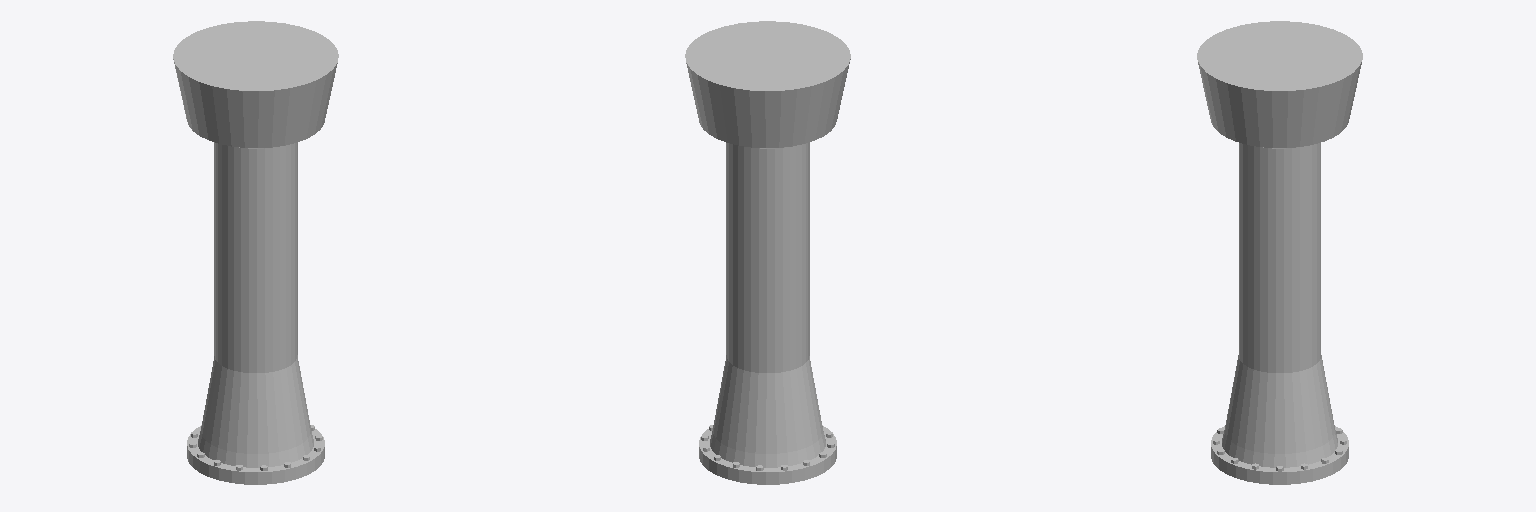
File: pipeworks_fountainhead.obj
3 views of the same model, side by side, from view 1: azimuth 30°, elevation 25°; view 2: azimuth 150°, elevation 25°; view 3: azimuth 270°, elevation 25° (orthographic).
Parts seen in each view (by area): view 1: Pipe_Cylinder.002; view 2: Pipe_Cylinder.002; view 3: Pipe_Cylinder.002.
Boxes of the visible parts, x1,y1,x2,y2 form: Pipe_Cylinder.002: [173, 21, 338, 484]; Pipe_Cylinder.002: [685, 21, 850, 484]; Pipe_Cylinder.002: [1197, 21, 1362, 484].
Bounding box in the file's own units: 0.375 × 1 × 0.375.